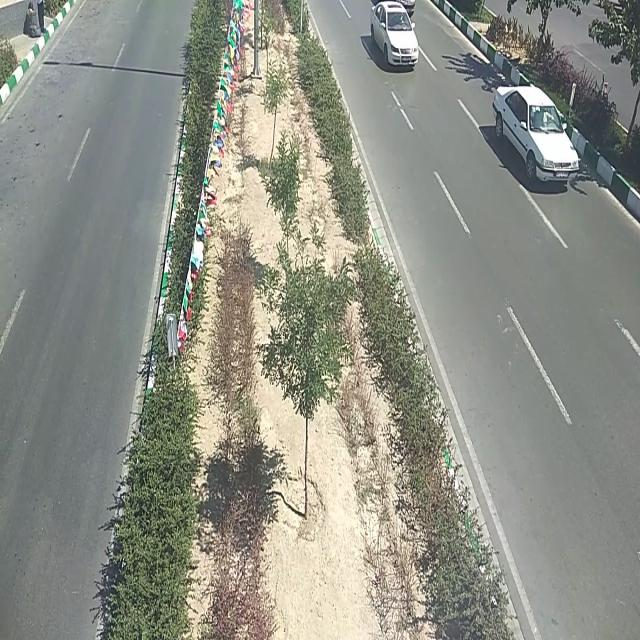car: (492, 79, 580, 191), (368, 3, 420, 68)
